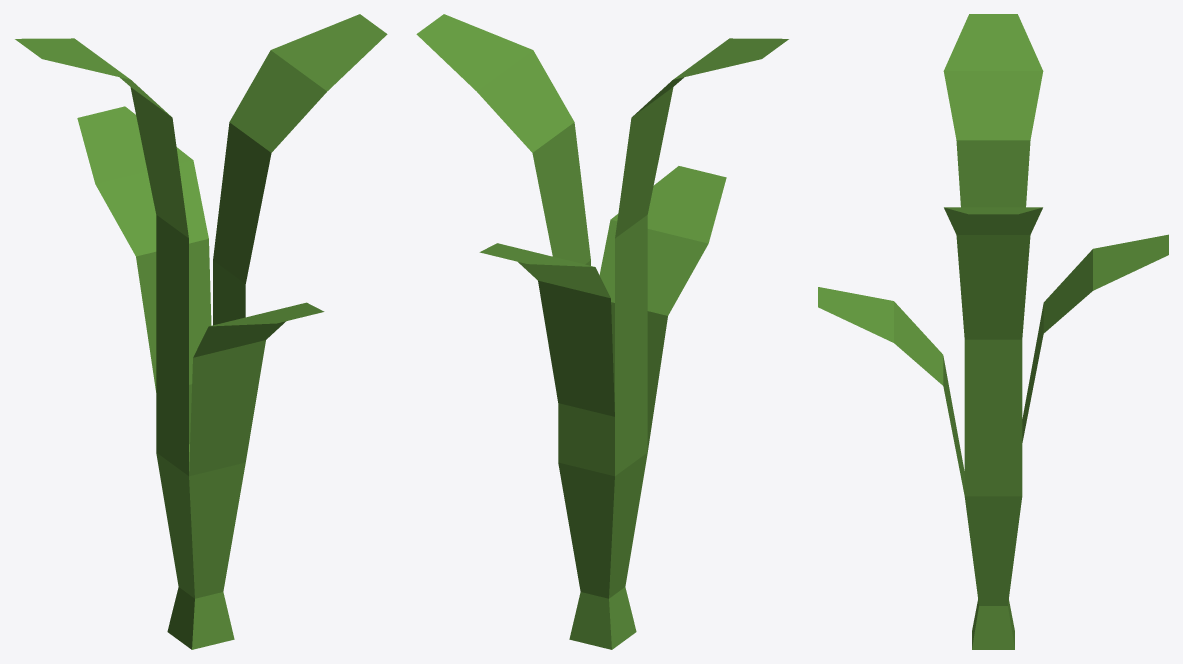
File: crops_leafsStageB.glb
3 views of the same model, side by side, from view 1: azimuth 30°, elevation 25°; view 2: azimuth 150°, elevation 25°; view 3: azimuth 270°, elevation 25° (orthographic). The views are drawn at different scales.
Parts seen in each view (by area): view 1: crops_leafsStageB; view 2: crops_leafsStageB; view 3: crops_leafsStageB.
Part boxes in pixels (box(x1,y1,x2,y2)): crops_leafsStageB: box(15, 14, 387, 649); crops_leafsStageB: box(416, 14, 788, 649); crops_leafsStageB: box(818, 14, 1168, 649).
Size of the model in its own units: 0.3894 by 0.6771 by 0.3894.
